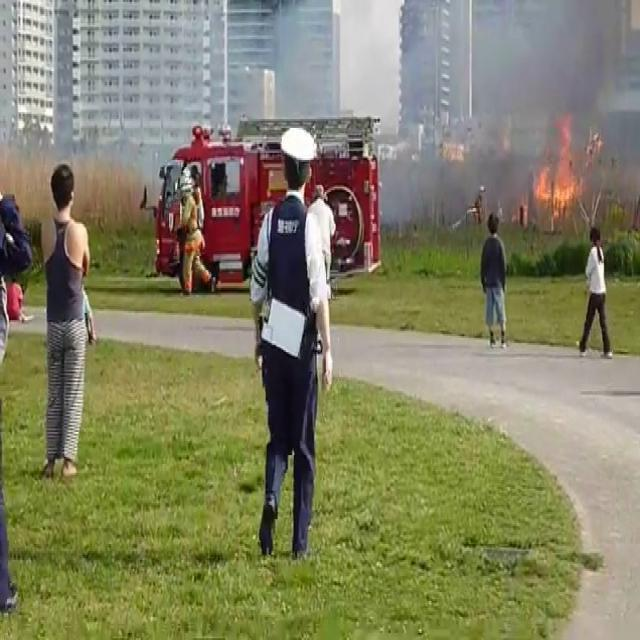Fire: (530, 121, 585, 219)
Smoke: (382, 0, 630, 201)
